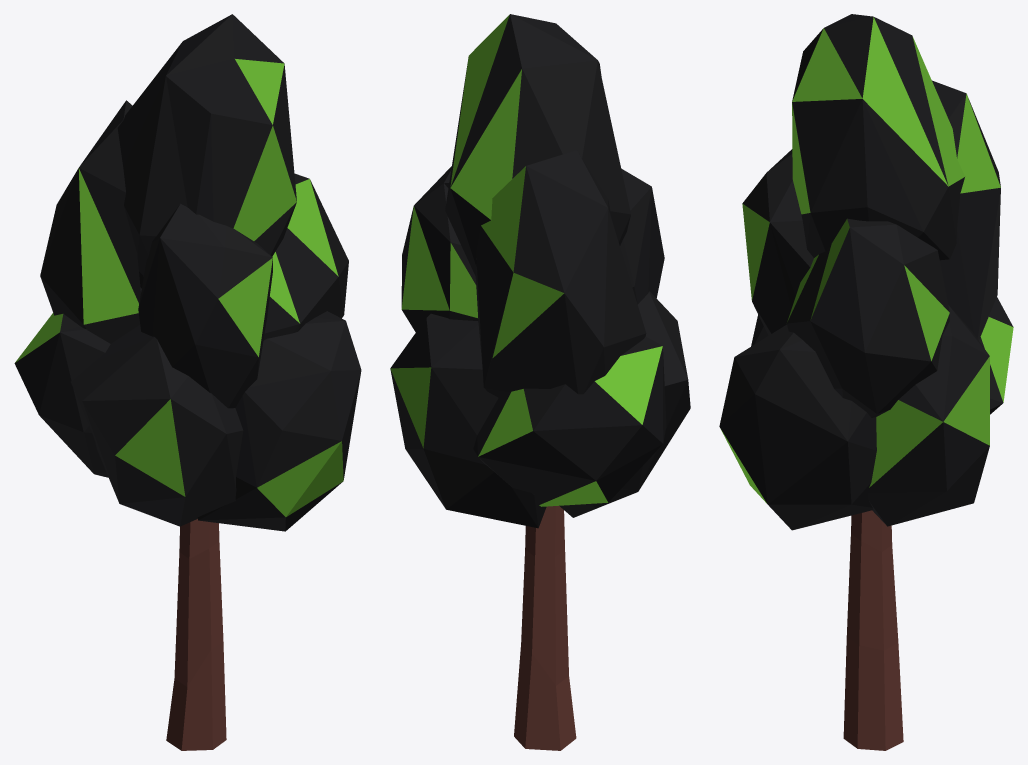
File: Poplar_large.fbx
3 views of the same model, side by side, from view 1: azimuth 30°, elevation 25°; view 2: azimuth 150°, elevation 25°; view 3: azimuth 270°, elevation 25° (orthographic). The views are drawn at different scales.
Visible parts, largest first — view 1: poplar_crown_Large, poplar_trunk_Large; view 2: poplar_crown_Large, poplar_trunk_Large; view 3: poplar_crown_Large, poplar_trunk_Large.
Part boxes in pixels (bbox=[...]): poplar_crown_Large: bbox=[14, 14, 361, 531]; poplar_trunk_Large: bbox=[166, 519, 226, 750]; poplar_crown_Large: bbox=[390, 14, 690, 528]; poplar_trunk_Large: bbox=[514, 506, 576, 750]; poplar_crown_Large: bbox=[719, 14, 1013, 530]; poplar_trunk_Large: bbox=[843, 510, 903, 750].
Size of the model in its own units: 133 by 316 by 114.
